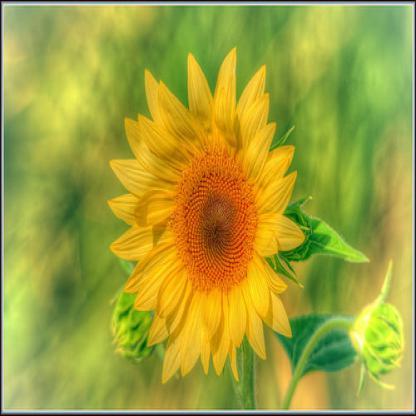SUN FLOWER: (82, 41, 377, 397)
